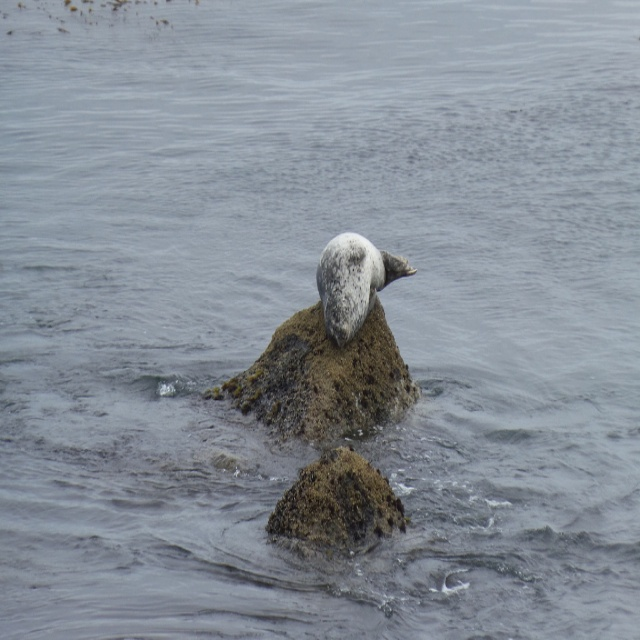Harbor seal: (320, 223, 415, 341)
